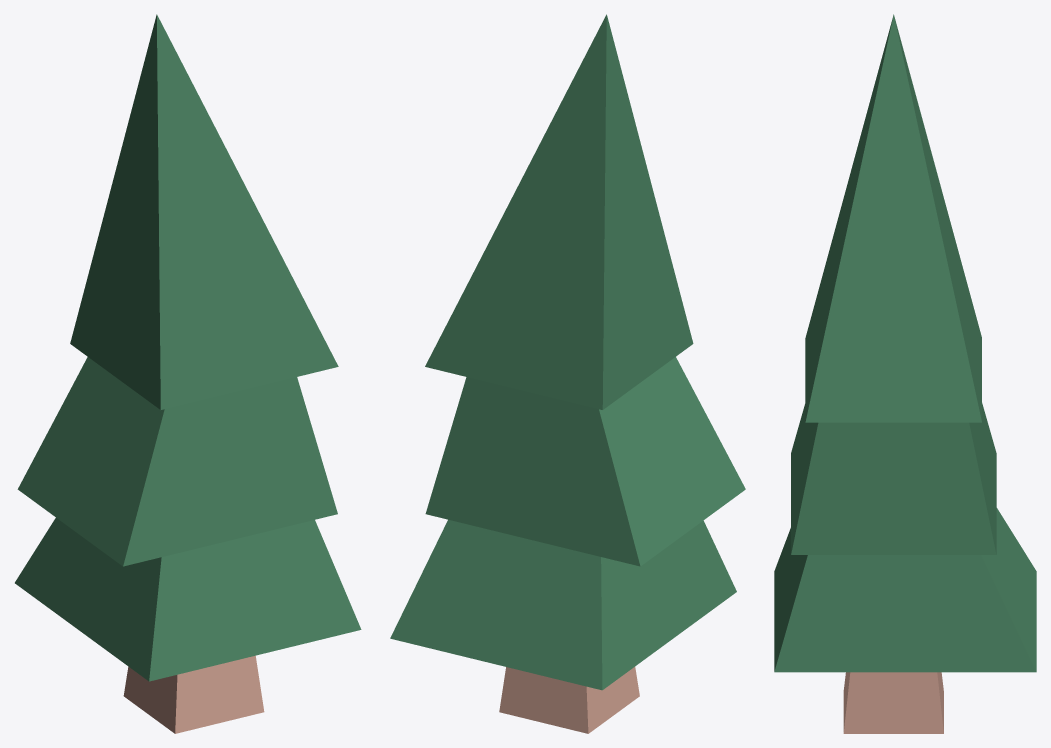
The model's file is juniperupright_1.glb.
3 renders of one model, left to right at view 1: azimuth 30°, elevation 25°; view 2: azimuth 150°, elevation 25°; view 3: azimuth 270°, elevation 25°, orthographic. The views are drawn at different scales.
Parts seen in each view (by area): view 1: tree_pineSmallC; view 2: tree_pineSmallC; view 3: tree_pineSmallC.
Boxes of the visible parts, x1,y1,x2,y2 form: tree_pineSmallC: (15, 14, 361, 733); tree_pineSmallC: (390, 14, 745, 733); tree_pineSmallC: (774, 14, 1036, 733).
Bounding box in the file's own units: 0.6191 × 1.8 × 0.6282.
